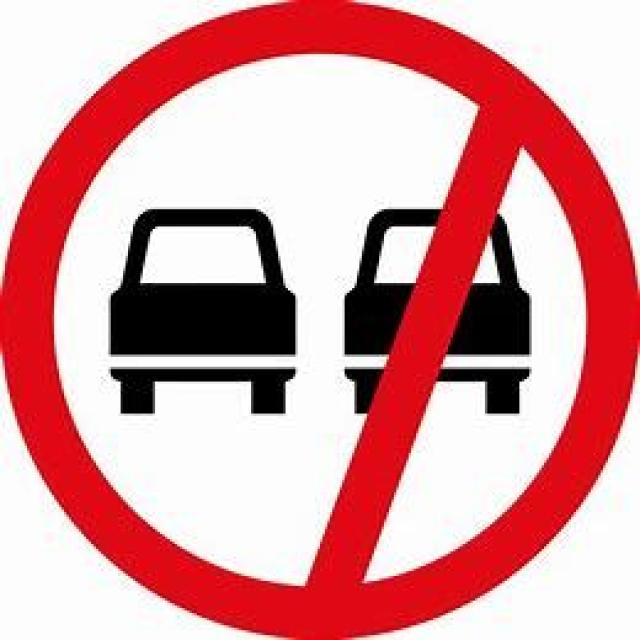no_stop: (0, 0, 638, 638)
